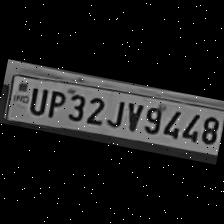2: (82, 92, 109, 126)
3: (63, 88, 88, 122)
4: (176, 108, 202, 142), (160, 104, 184, 139)
8: (196, 111, 222, 146)
9: (138, 100, 165, 136)
J: (104, 94, 128, 130)
P: (42, 86, 68, 120)
U: (25, 83, 49, 116)
V: (119, 98, 144, 134)
